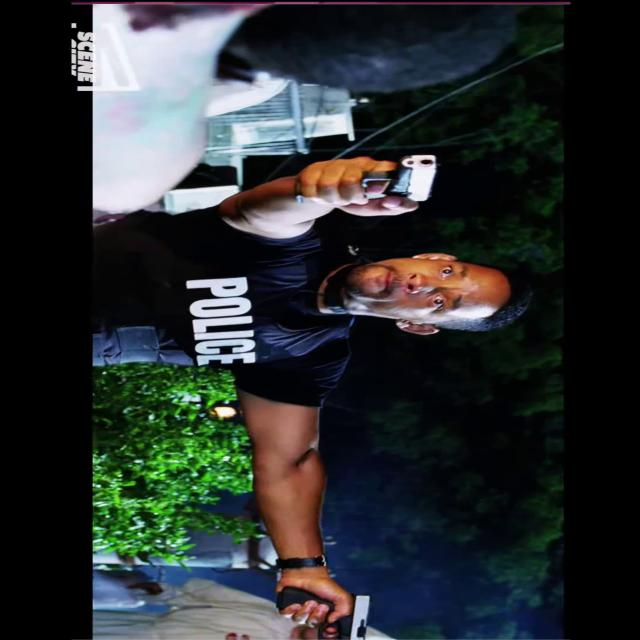weapons: (310, 142, 454, 214), (266, 580, 384, 640)
